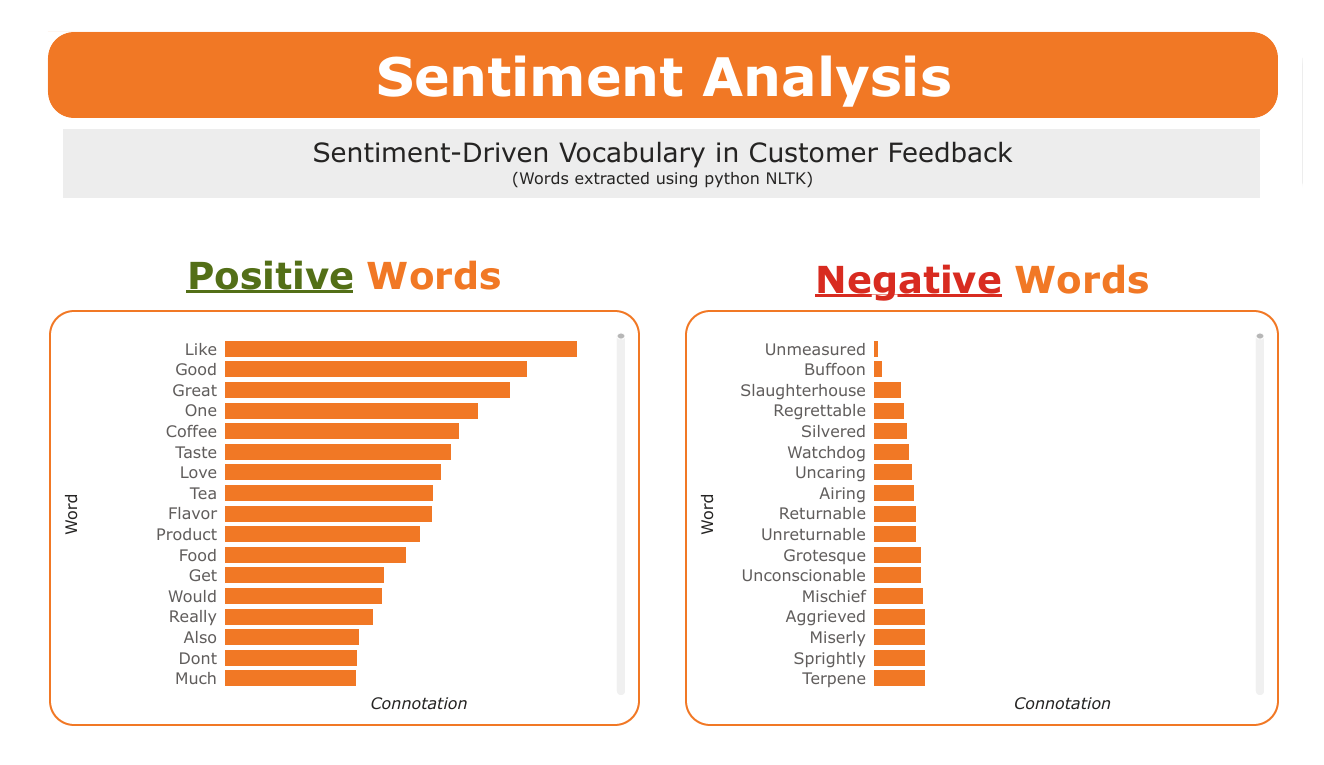

This screenshot's page, from the dashboard's own definition file:
{"tool":"powerbi","page":{"name":"Sentiment Analysis","canvas":[1280,720],"ordinal":0},"visuals":[{"type":"barChart","title":"Ocorrências por Palavra","fields":{"Category":["Reviews_sentiment (2).Word"],"Y":["Sum(Reviews_sentiment (2).CountForPositive)"]},"box":[25.6,286.7,591.1,416.7],"z":0},{"type":"shape","box":[25,8.8,1230,86.2],"z":1000},{"type":"textbox","box":[292.5,13.8,695,76.2],"z":2000},{"type":"textbox","box":[62.2,223.3,517.8,63.3],"z":3000},{"type":"textbox","box":[692.2,226.7,533.3,56.7],"z":4000},{"type":"barChart","title":"Ocorrências por Palavra","fields":{"Category":["Reviews_sentiment (2).Word"],"Y":["Min(Reviews_sentiment (2).WordRatio)"]},"box":[662.2,286.7,593.3,416.7],"z":5000},{"type":"textbox","box":[41.1,106.7,1196.7,68.9],"z":6000}]}

Visuals, with their boxes in screenshot pixels (x1, y1, x2, y2), scaled from the page's 1280x720 canvas onto the 1324x765 screenshot:
"Ocorrências por Palavra" barChart: rect(26, 305, 638, 747)
shape: rect(26, 9, 1298, 101)
textbox: rect(303, 15, 1021, 96)
textbox: rect(64, 237, 600, 305)
textbox: rect(716, 241, 1268, 301)
"Ocorrências por Palavra" barChart: rect(685, 305, 1299, 747)
textbox: rect(43, 113, 1280, 187)
